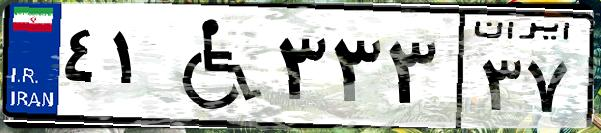1: (110, 28, 158, 98)
3: (270, 28, 330, 110), (385, 28, 445, 110), (330, 28, 385, 110), (475, 38, 525, 113)
4: (57, 26, 110, 100)
7: (525, 38, 570, 115)
ژ (معلولین و جانبازان): (158, 12, 270, 120)
